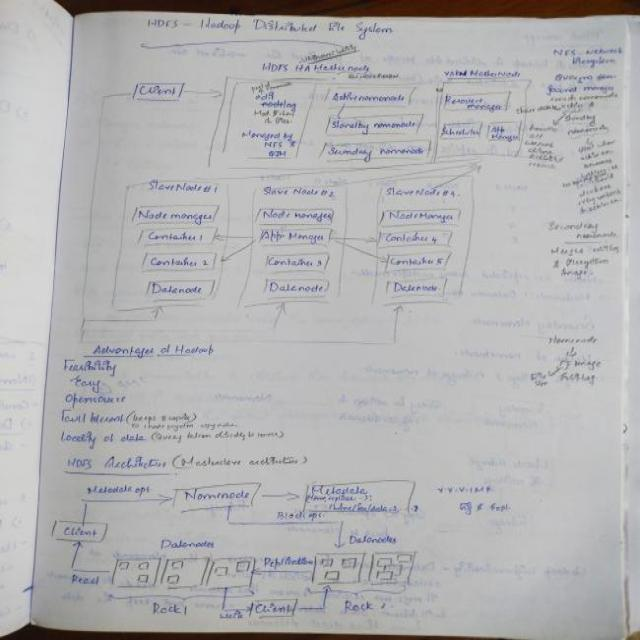Figure Detection - v3 Dataset Version2: (75, 62, 572, 350), (43, 475, 453, 631)
